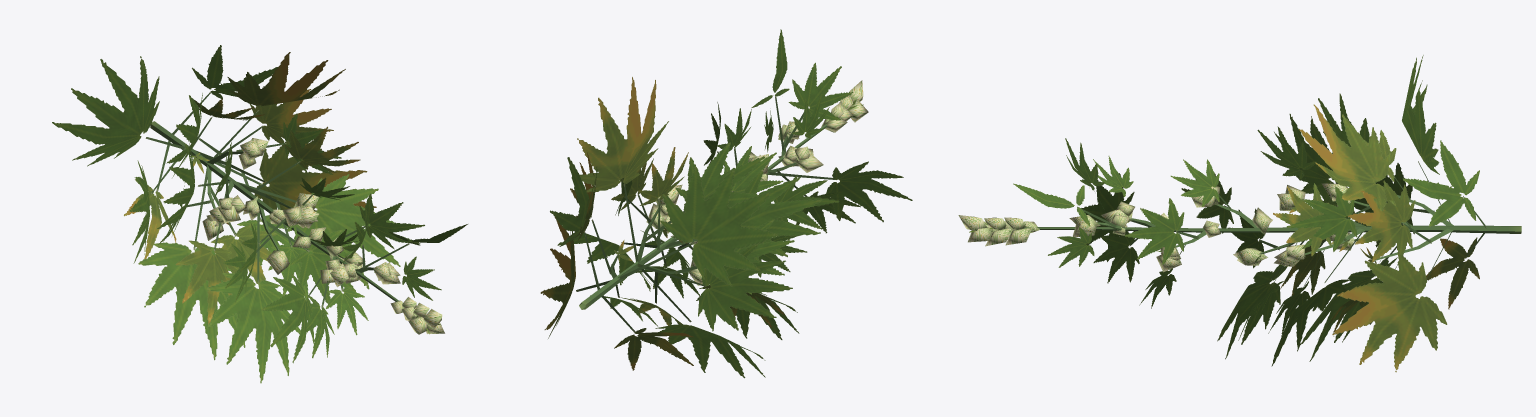
The model's file is p_male_haze_ripe_c0_cards.obj.
The picture shows the model from 3 angles, left to right: view 1: azimuth 30°, elevation 25°; view 2: azimuth 150°, elevation 25°; view 3: azimuth 270°, elevation 25°; orthographic projection.
Size of the model in its own units: 1.34 by 1.26 by 1.91.
Materials: 1 (1 with a texture image).
